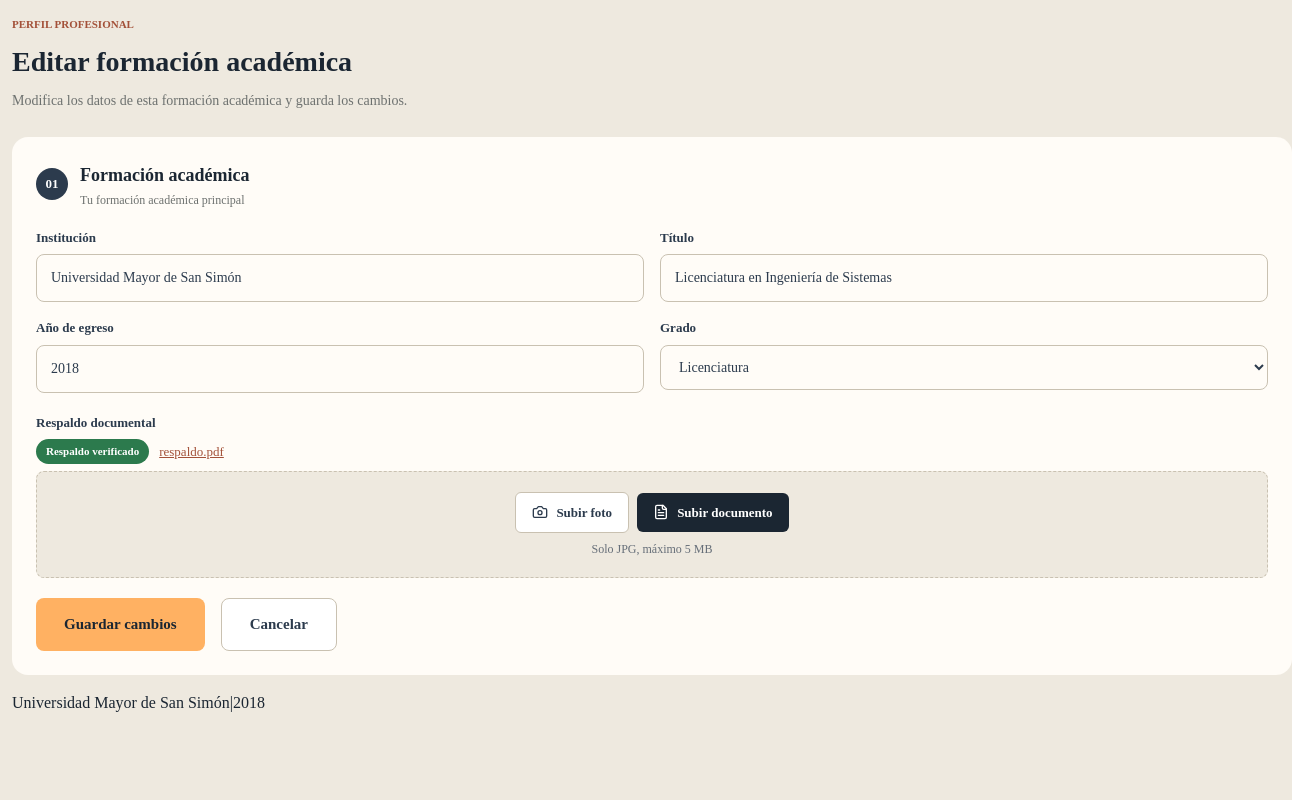
Test: EditEducationForm › 400: muestra el mensaje del backend y no guarda
Click the button "Guardar cambios" at point(120, 624), box [36,598,205,650]
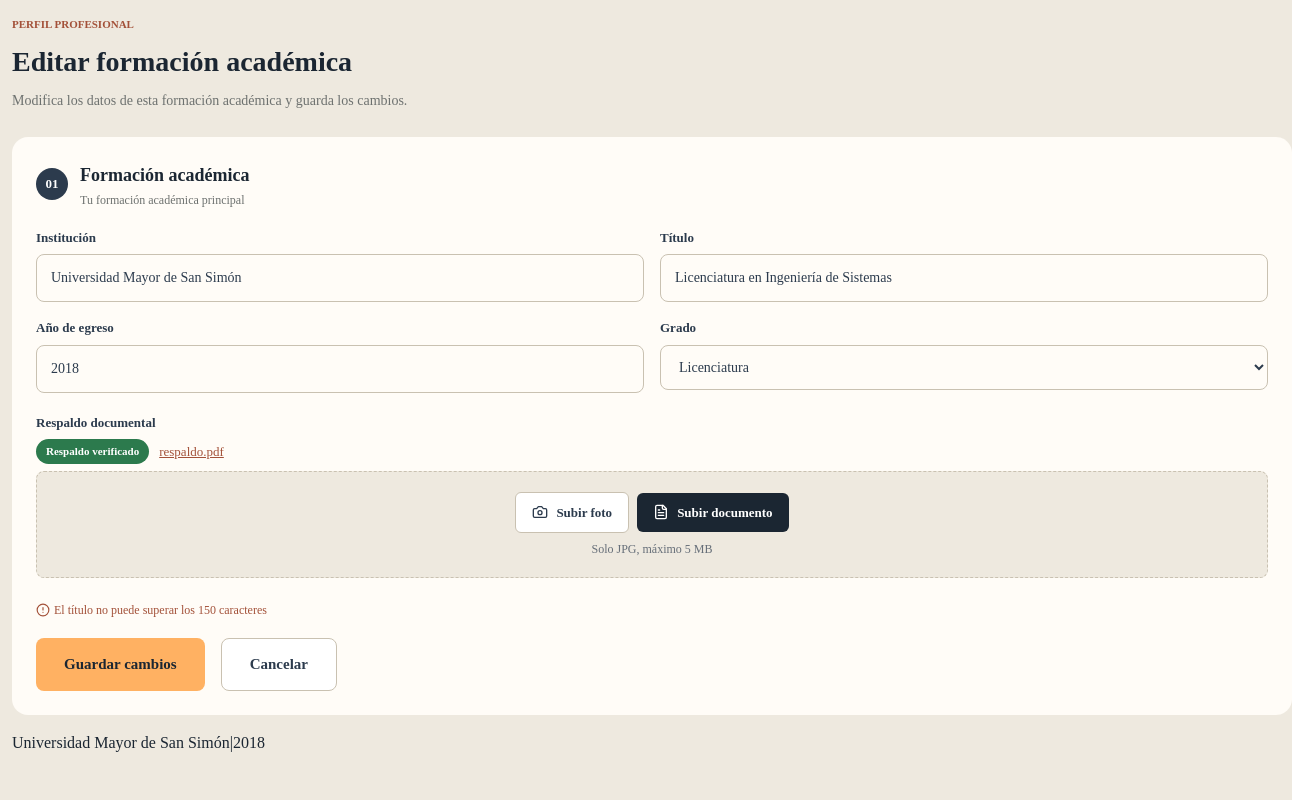
Check: the text "El título no puede superar los 150 caracteres" is shown, box [36,603,267,617]
